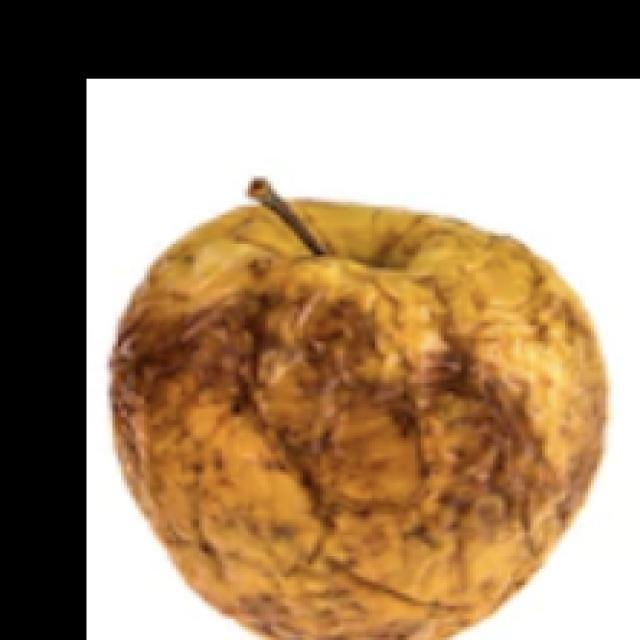Rotten: (135, 195, 610, 640)
